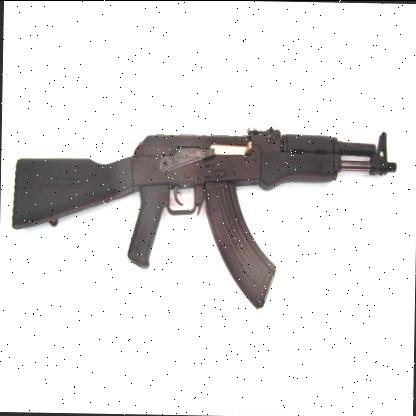rifle: (9, 97, 397, 320)
